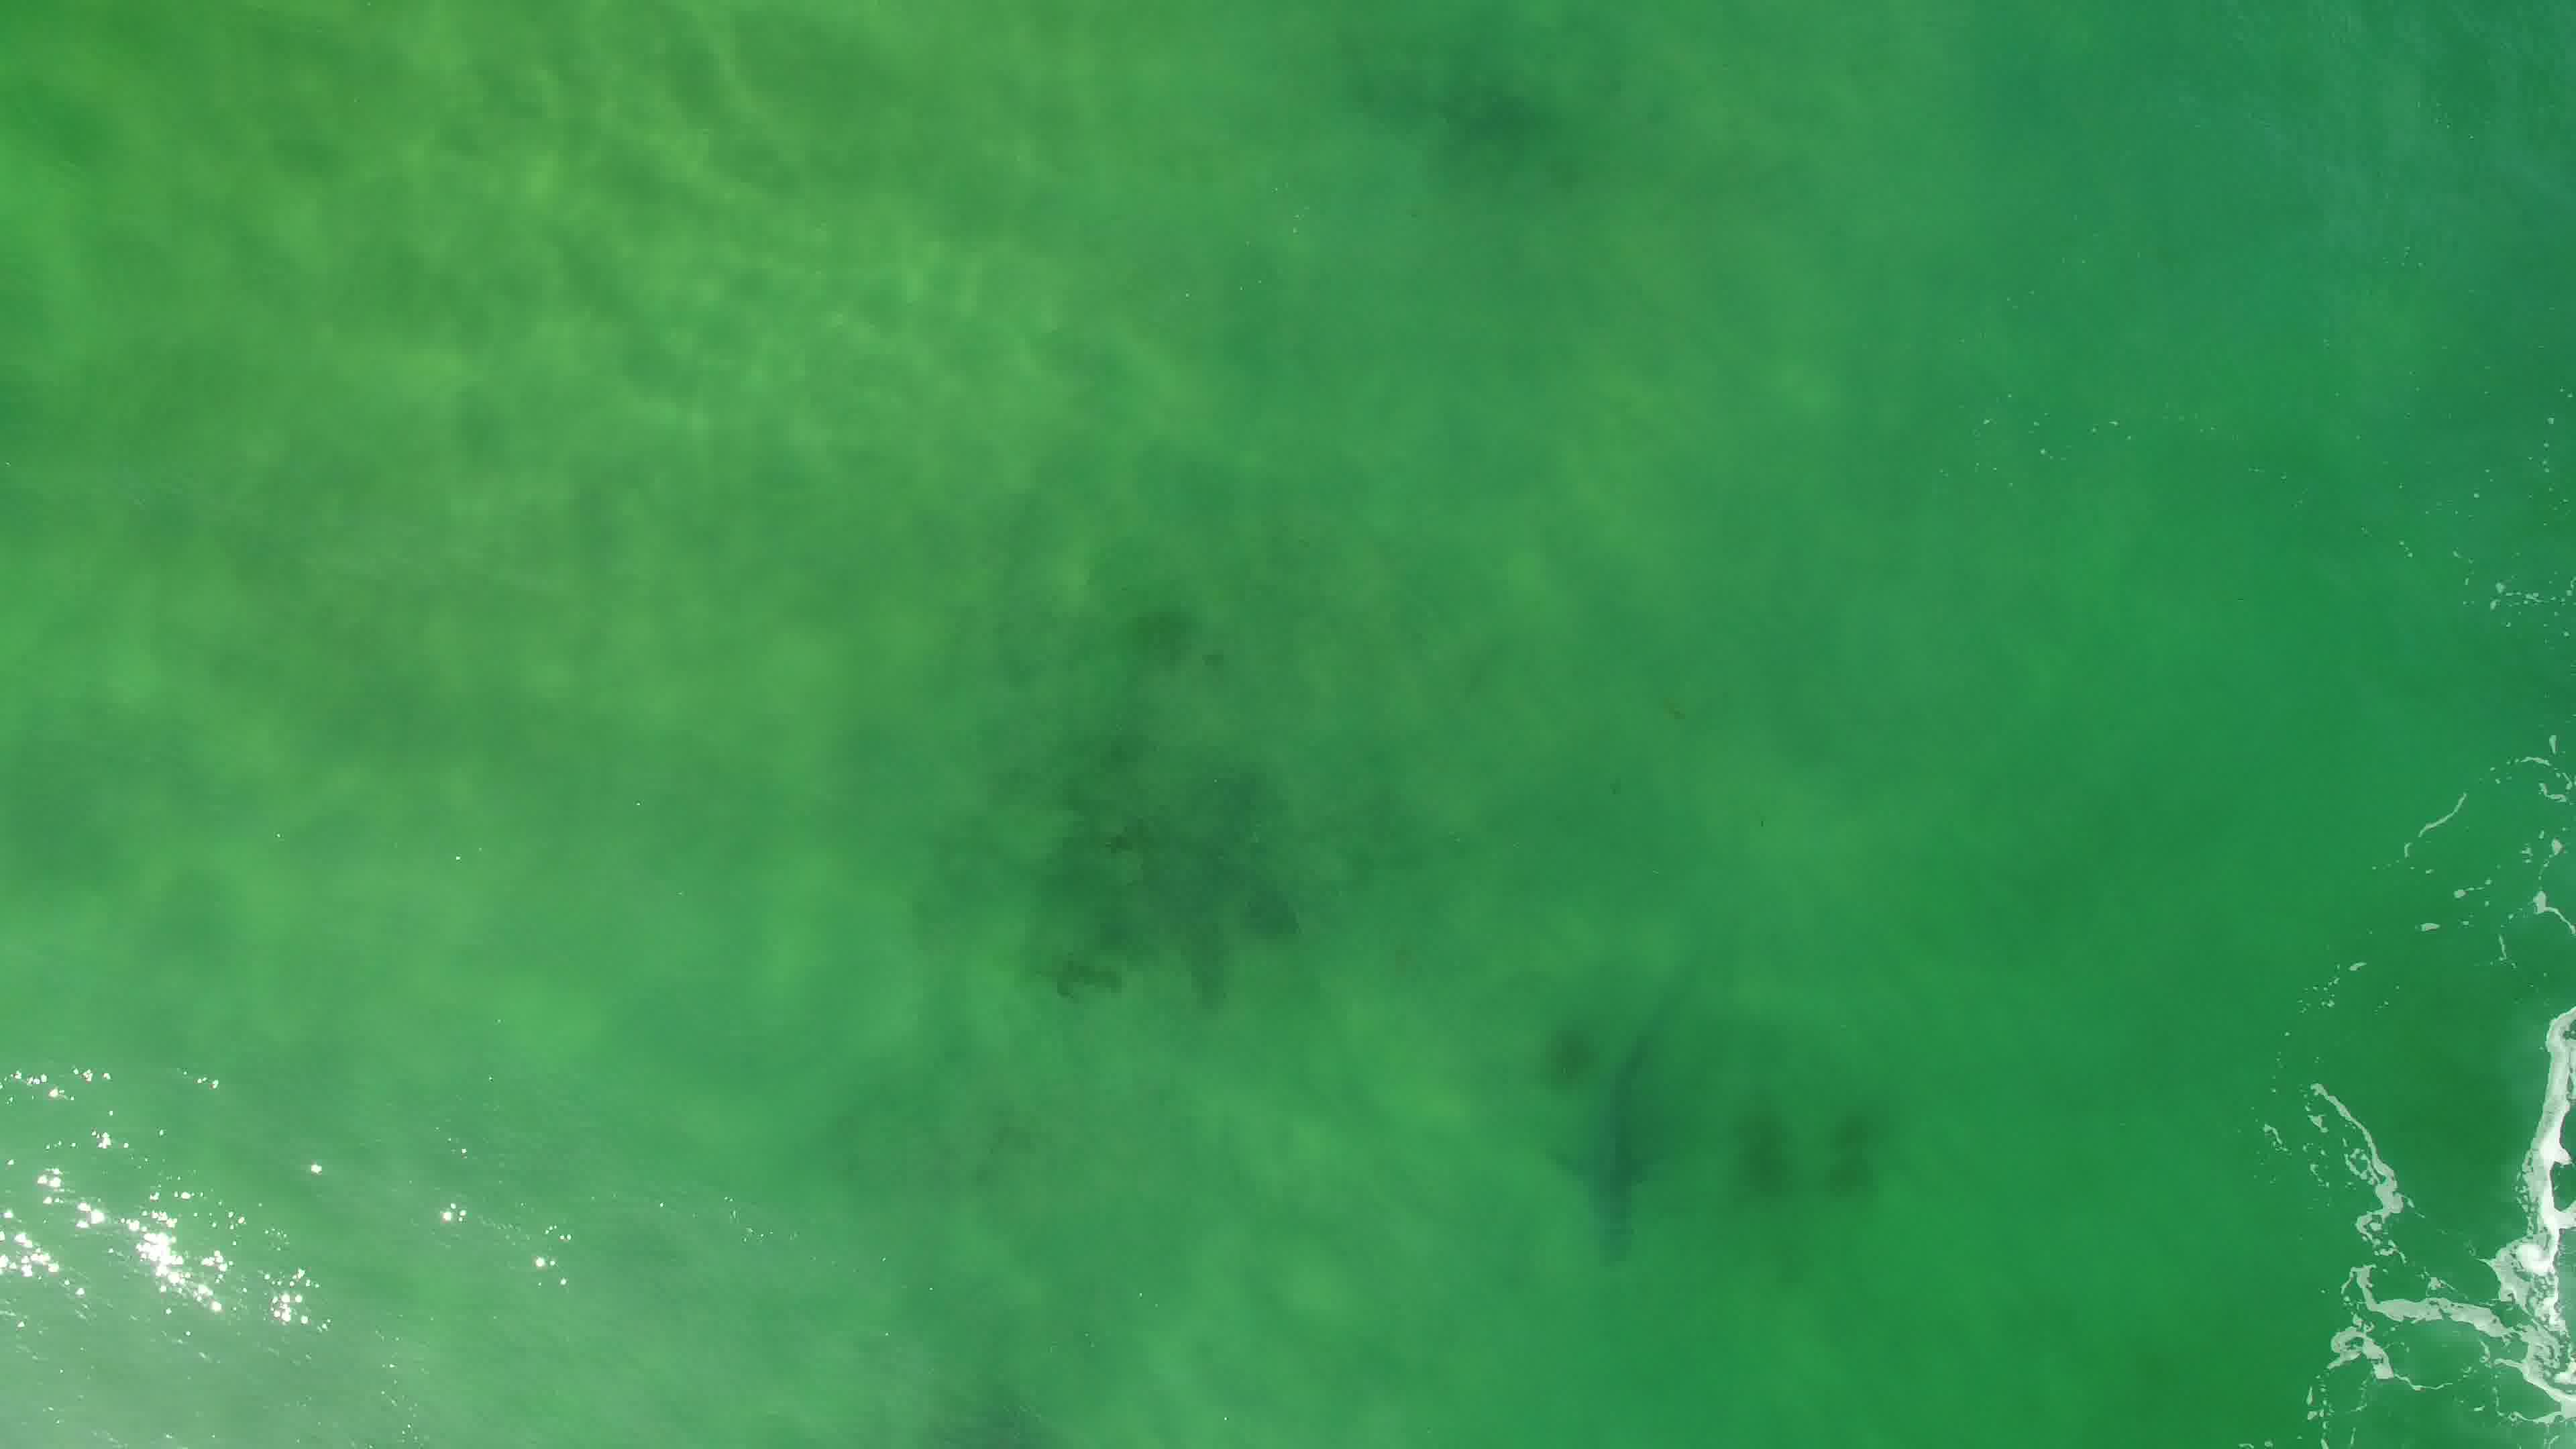shark: (1534, 1017, 1668, 1270)
